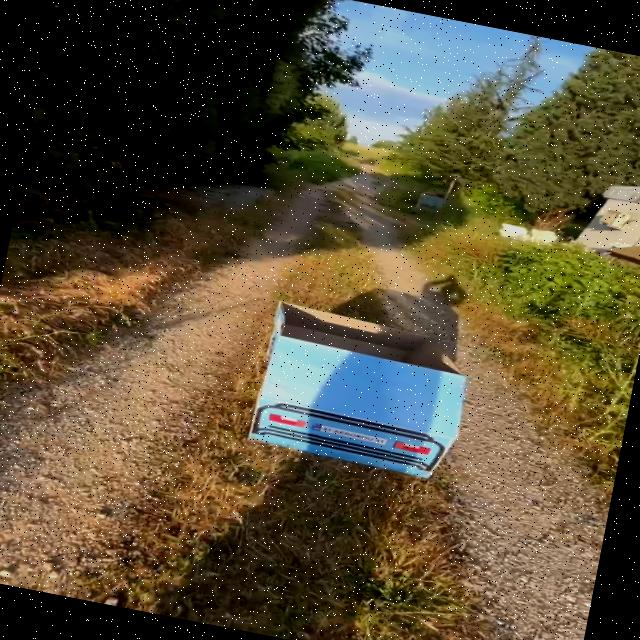blue_car: (204, 262, 516, 500)
